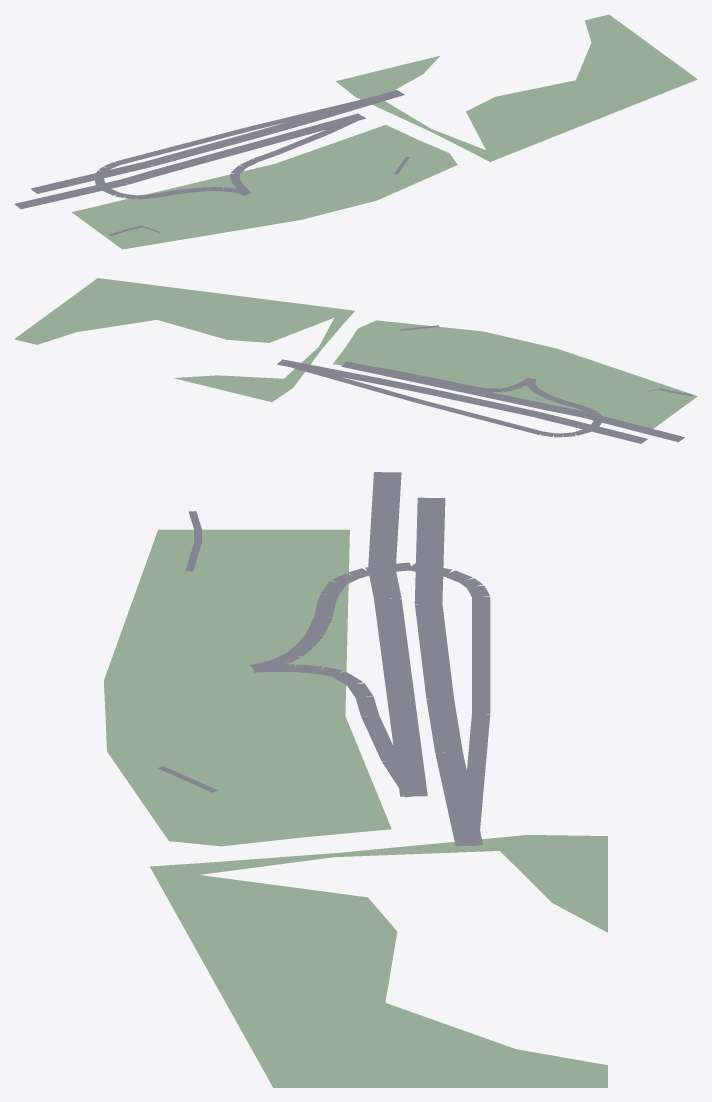
File: 108_85_mid.glb
The picture shows the model from 3 angles, top to bottom: view 1: azimuth 30°, elevation 25°; view 2: azimuth 150°, elevation 25°; view 3: azimuth 270°, elevation 25°; orthographic projection. The views are drawn at different scales.
Size of the model in its own units: 536 by 7.28 by 191.
